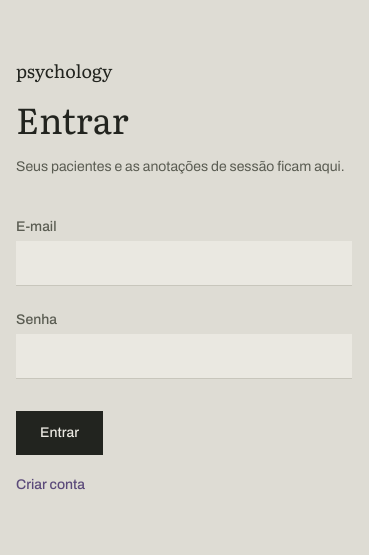
LoginPage › avisa que o servidor esta fora do ar quando o login nao chega la, em vez de dizer credencial invalida
Type "ana@teste.com" into the field labelled "E-mail" at point(184, 263), box [16,240,352,286]
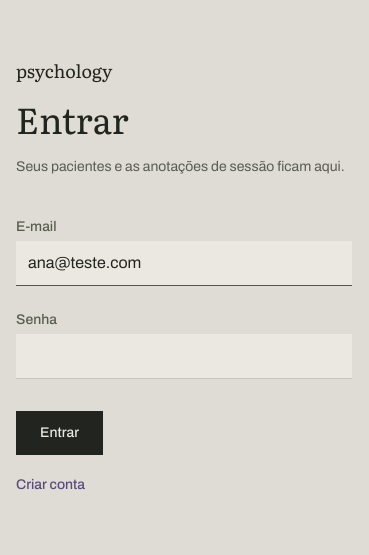
Type "senhaforte123" into the password field labelled "Senha" at point(184, 356), box [16,334,352,378]
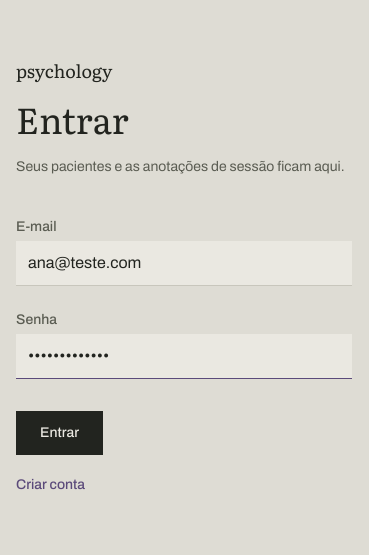
Click the button "Entrar" at point(60, 432), box [16,410,103,454]
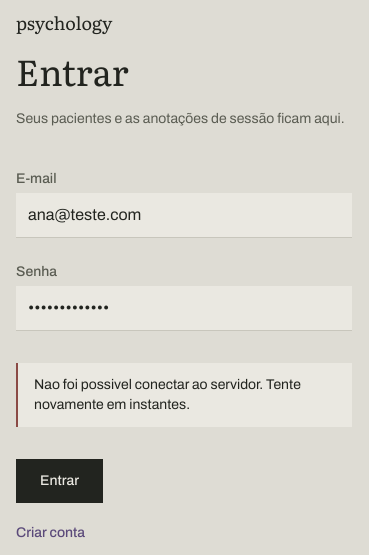
Result: the text "Nao foi possivel conectar ao servidor. Tente novamente em instantes." is shown at [16,362,352,426]
